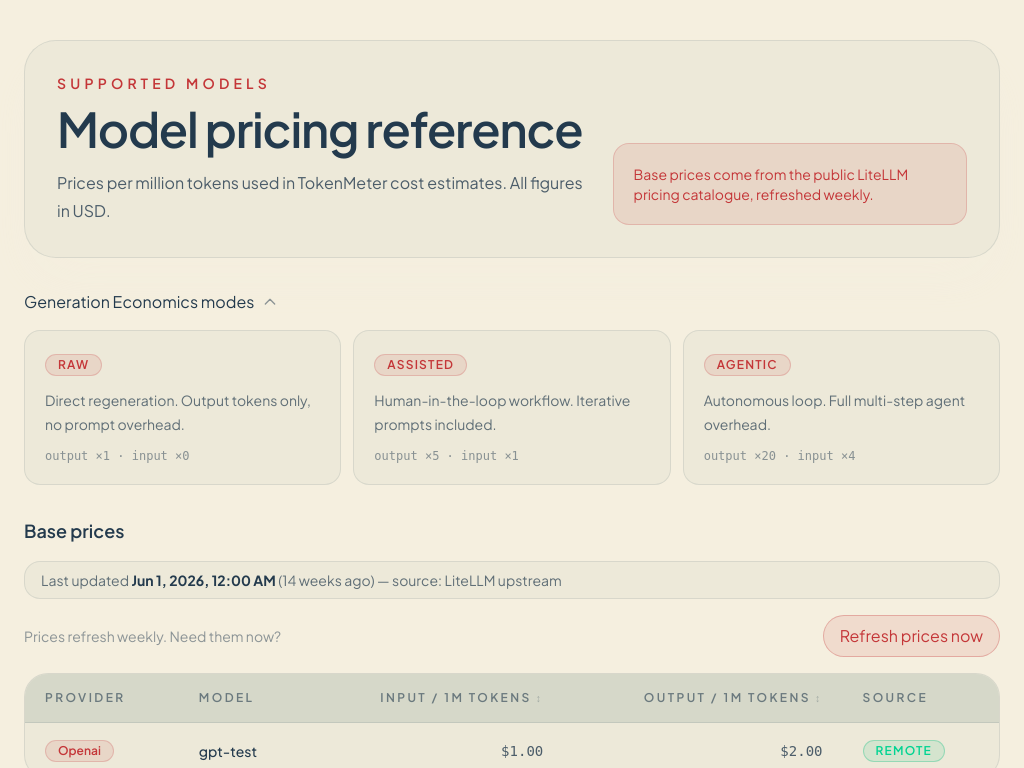
Test: ModelsPage — on-demand pricing refresh (TKM-62) › refreshes prices, reloads pricing and shows success counts
Click the button "Refresh prices now" at (911, 636), box [823, 615, 1000, 657]
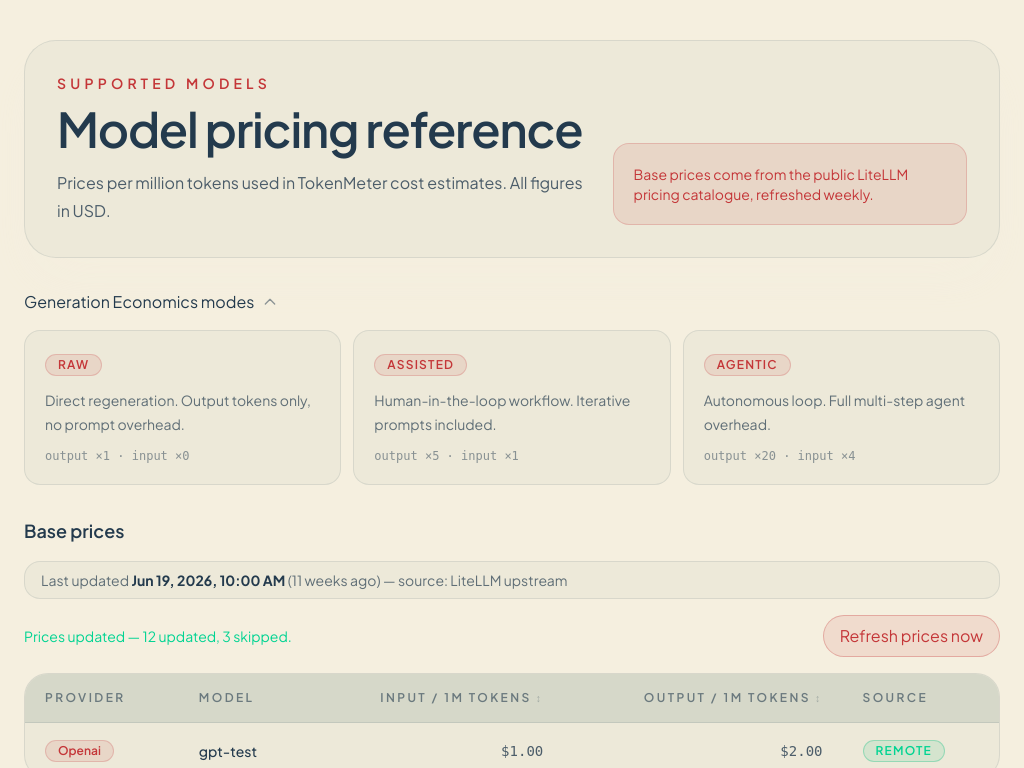
Expected: the text "Prices updated — 12 updated, 3 skipped." is shown, [24, 627, 292, 645]
